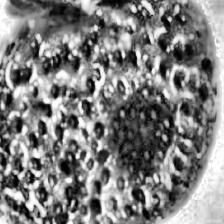Anthracnose Fruit Rot: (107, 83, 180, 180)
